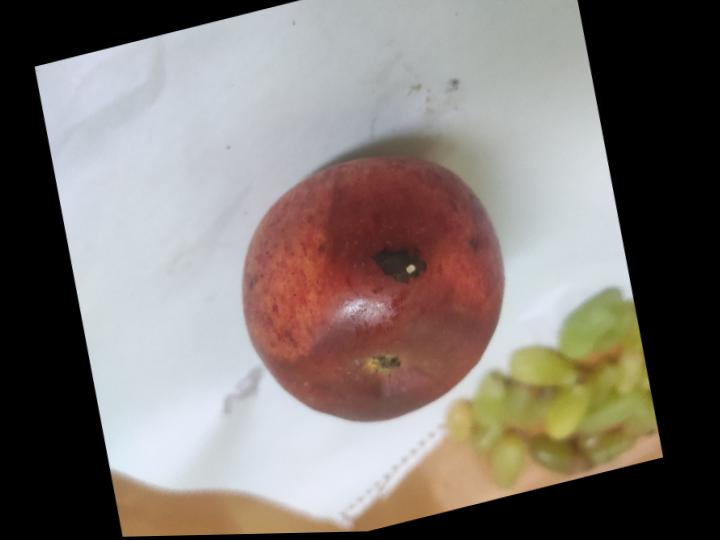apple: (242, 157, 503, 422)
bruise_discoloration: (278, 157, 503, 421)
rot_mold_decay: (370, 248, 425, 283)
